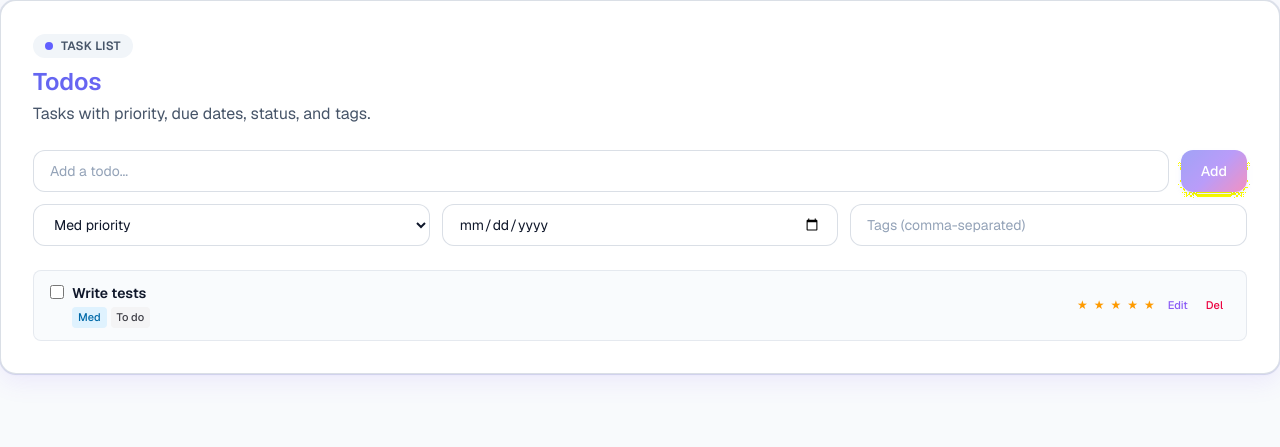
TodosSection › shows an error when the user already rated a todo
Click the button named "Rate Write tests 5 stars".
click(1150, 305)  # box [1142,297,1157,313]
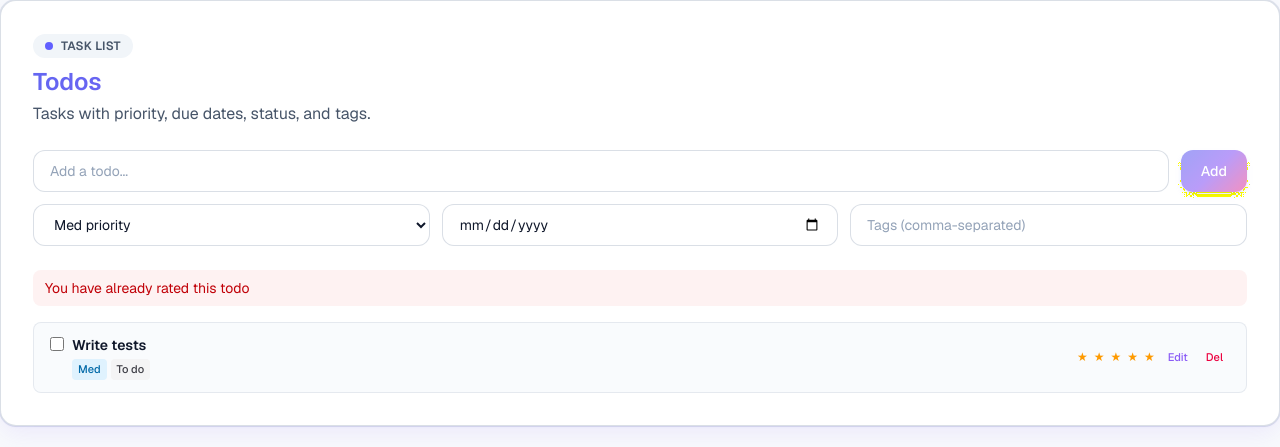
Check: the text "You have already rated this todo" is shown, box [33,270,1247,306]
